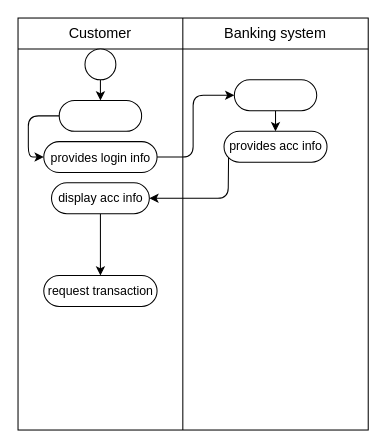
Some shapes in this 386 by 448 pixel diagram are drawn without their labels. The centre of each missing label's shape, as x and y in pixels:
start: pixel 100 115
verify login: pixel 275 95
